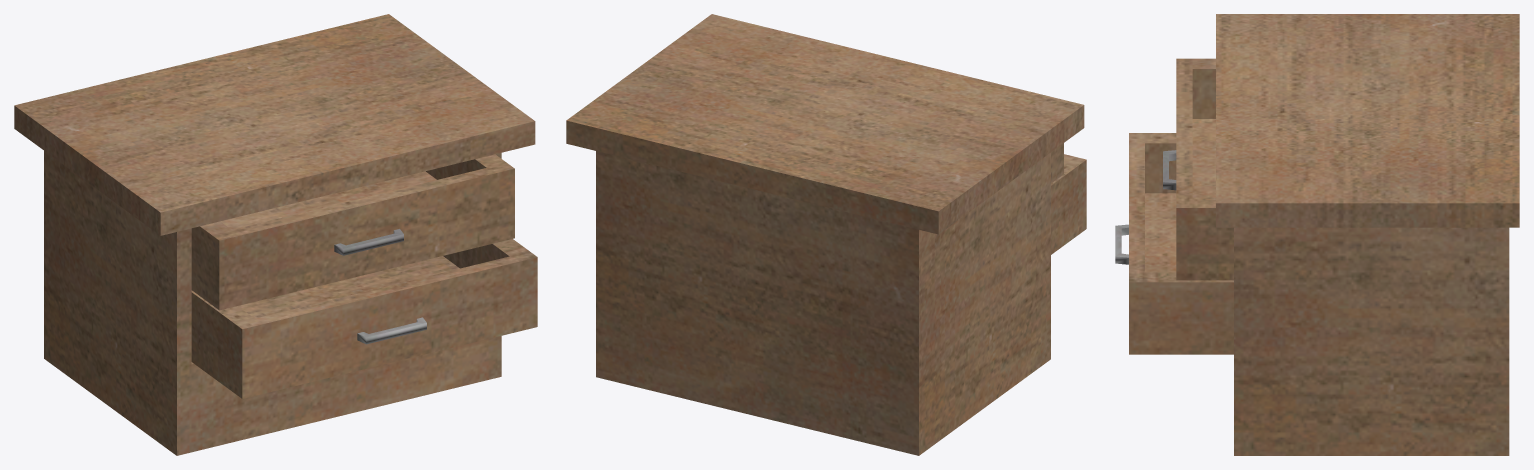
Rendered from Prop_Cupboard1.glb.
The picture shows the model from 3 angles, left to right: view 1: azimuth 30°, elevation 25°; view 2: azimuth 150°, elevation 25°; view 3: azimuth 270°, elevation 25°; orthographic projection. The views are drawn at different scales.
Visible parts, largest first — view 1: xiutz_cupboard1; view 2: xiutz_cupboard1; view 3: xiutz_cupboard1.
Boxes of the visible parts, bbox=[...] form: xiutz_cupboard1: bbox=[14, 14, 537, 455]; xiutz_cupboard1: bbox=[566, 14, 1086, 455]; xiutz_cupboard1: bbox=[1115, 14, 1519, 455].
Size of the model in its own units: 1.53 by 1 by 1.38.
1 material, 1 textured.
